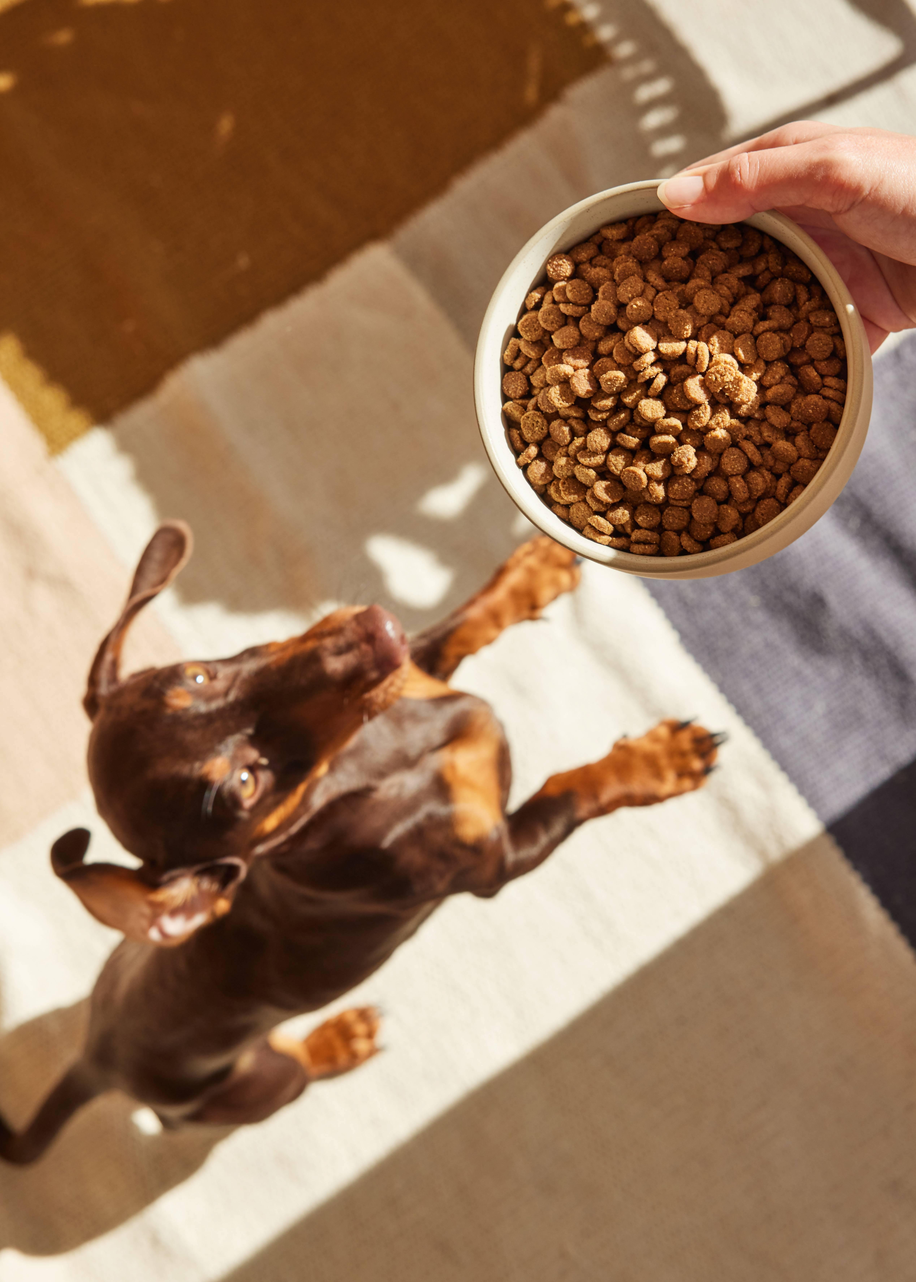adult_dog: (1, 516, 727, 1177)
